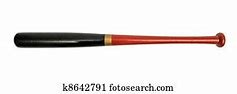bat: (13, 30, 228, 50)
